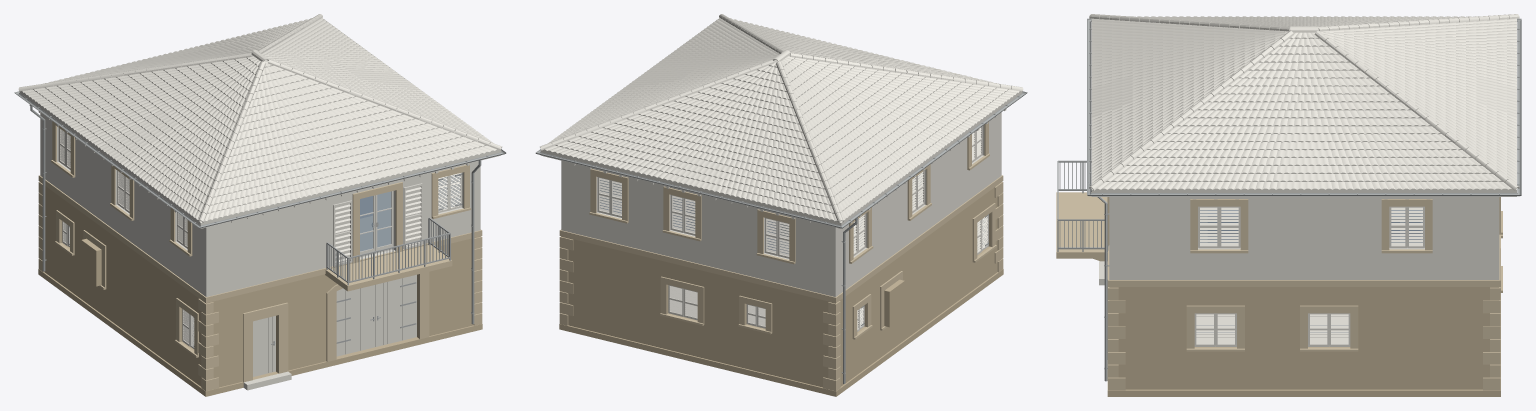
Rendered from les_calanques_fischerhaus.glb.
3 views of the same model, side by side, from view 1: azimuth 30°, elevation 25°; view 2: azimuth 150°, elevation 25°; view 3: azimuth 270°, elevation 25° (orthographic). The views are drawn at different scales.
Parts seen in each view (by area): view 1: Arch_roof_terracotta, Shell_new_limestone_rubble_ochre, Shell_plaster_cream_warm, Arch_new_limestone_dressed_ochre, Arch_shutter_paint, Arch_terracotta, Arch_galvanized_steel, Arch_steel_painted_worn, DoorLeaf_01a_L_in, DoorLeaf_01b_R_in, Shell_new_limestone_dressed_ochre, Arch_painted_timber_warmgrey (+5 smaller); view 2: Arch_roof_terracotta, Shell_new_limestone_rubble_ochre, Shell_plaster_cream_warm, Arch_new_limestone_dressed_ochre, Arch_shutter_paint, Arch_terracotta, Shell_new_limestone_dressed_ochre, Arch_galvanized_steel, Arch_painted_timber_warmgrey, Arch_glass; view 3: Arch_roof_terracotta, Shell_new_limestone_rubble_ochre, Shell_plaster_cream_warm, Arch_new_limestone_dressed_ochre, Arch_shutter_paint, Arch_terracotta, Arch_galvanized_steel, Shell_new_limestone_dressed_ochre, Arch_painted_timber_warmgrey, Arch_steel_painted_worn, Arch_glass.
Part boxes in pixels (x1,y1,x2,y2): Arch_roof_terracotta: [21, 17, 498, 222]; Shell_new_limestone_rubble_ochre: [38, 186, 482, 396]; Shell_plaster_cream_warm: [40, 113, 480, 296]; Arch_new_limestone_dressed_ochre: [38, 121, 482, 391]; Arch_shutter_paint: [58, 128, 462, 348]; Arch_terracotta: [18, 14, 501, 222]; Arch_galvanized_steel: [14, 19, 506, 324]; Arch_steel_painted_worn: [69, 173, 462, 346]; DoorLeaf_01a_L_in: [375, 274, 416, 346]; DoorLeaf_01b_R_in: [336, 285, 375, 356]; Shell_new_limestone_dressed_ochre: [39, 175, 481, 302]; Arch_painted_timber_warmgrey: [19, 56, 501, 228]; Arch_roof_terracotta: [543, 17, 1020, 222]; Shell_new_limestone_rubble_ochre: [559, 187, 1003, 396]; Shell_plaster_cream_warm: [561, 112, 1001, 296]; Arch_new_limestone_dressed_ochre: [559, 121, 1003, 391]; Arch_shutter_paint: [597, 126, 988, 331]; Arch_terracotta: [540, 14, 1023, 222]; Shell_new_limestone_dressed_ochre: [560, 175, 1002, 302]; Arch_galvanized_steel: [535, 19, 1027, 383]; Arch_painted_timber_warmgrey: [540, 56, 1022, 228]; Arch_glass: [600, 175, 985, 324]; Arch_roof_terracotta: [1091, 16, 1516, 190]; Shell_new_limestone_rubble_ochre: [1107, 287, 1500, 396]; Shell_plaster_cream_warm: [1109, 197, 1499, 279]; Arch_new_limestone_dressed_ochre: [1056, 192, 1502, 390]; Arch_shutter_paint: [1107, 197, 1424, 346]; Arch_terracotta: [1089, 14, 1519, 190]; Arch_galvanized_steel: [1087, 18, 1521, 381]; Shell_new_limestone_dressed_ochre: [1108, 234, 1500, 286]; Arch_painted_timber_warmgrey: [1091, 32, 1516, 199]; Arch_steel_painted_worn: [1057, 160, 1108, 251]; Arch_glass: [1196, 210, 1422, 332].
Bounding box in the file's own units: 11.76 × 9.05 × 13.13.
